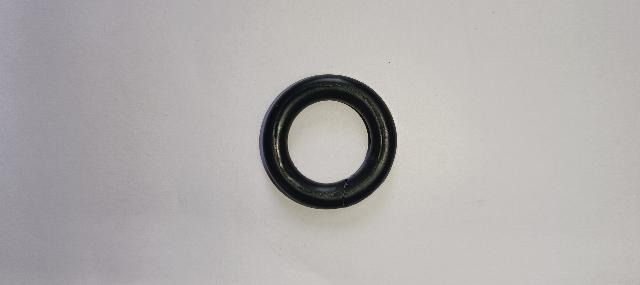crack: (338, 177, 352, 210)
scratch: (273, 81, 387, 199)
